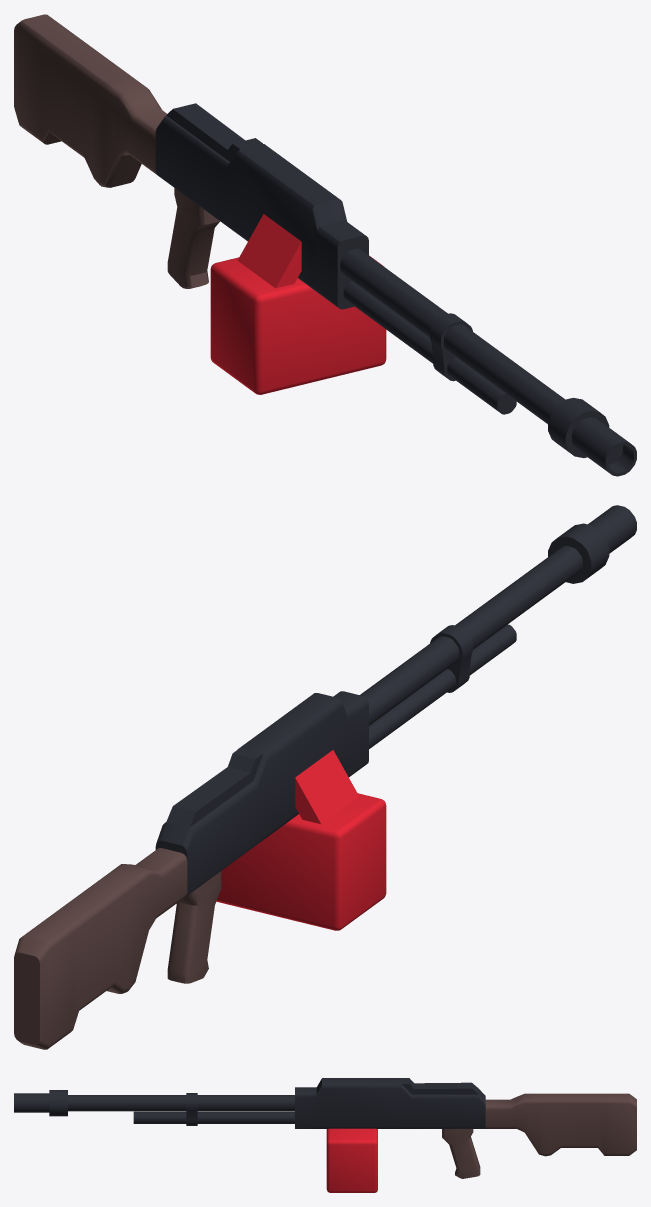
File: RamboGun.fbx
3 renders of one model, top to bottom at view 1: azimuth 30°, elevation 25°; view 2: azimuth 150°, elevation 25°; view 3: azimuth 270°, elevation 25°, orthographic. The views are drawn at different scales.
Parts seen in each view (by area): view 1: Cube; view 2: Cube; view 3: Cube.
Part boxes in pixels (x1,y1,x2,y2): Cube: [14, 14, 636, 476]; Cube: [14, 505, 636, 1049]; Cube: [14, 1078, 636, 1192].
Bounding box in the file's own units: 0.1853 × 0.2472 × 1.45.
